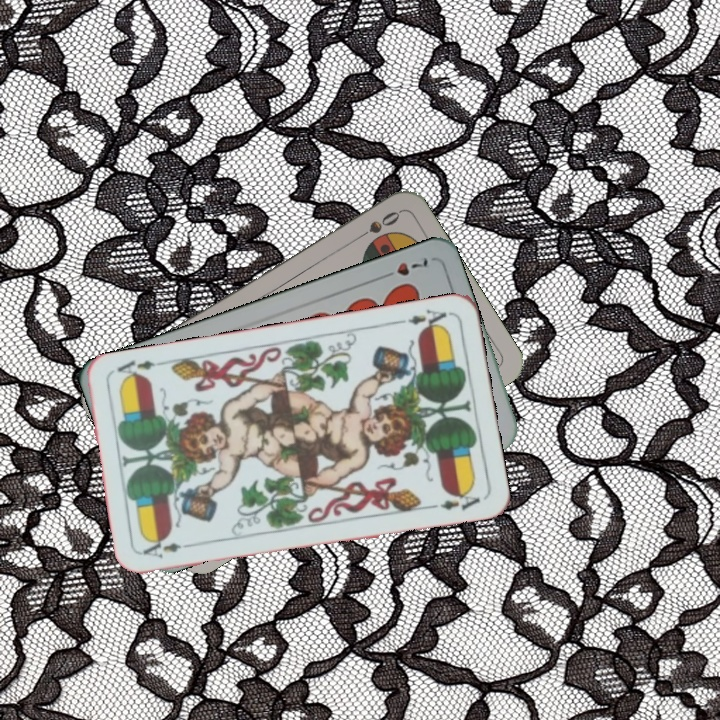EA: (394, 304, 453, 334), (139, 538, 198, 561)
H7: (376, 253, 431, 282)
SO: (349, 207, 403, 245)
